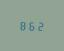eight: (18, 19, 25, 30)
six: (27, 19, 34, 31)
two: (35, 20, 42, 31)
